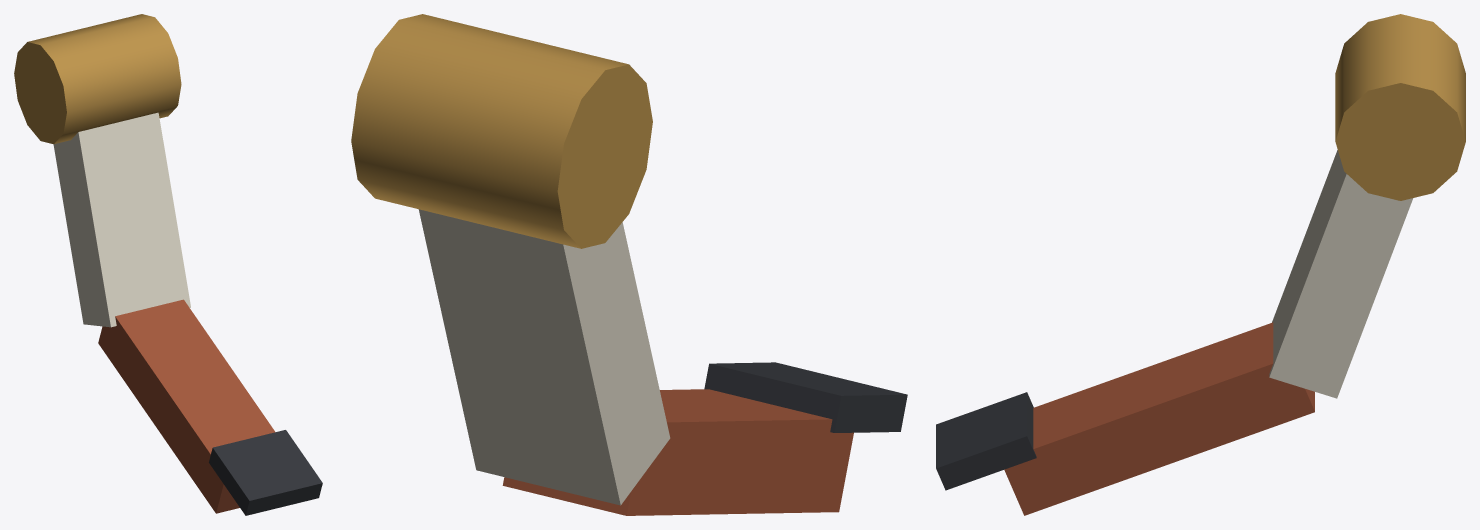
Rendered from rm2_claw_jaw_b.obj.
The picture shows the model from 3 angles, left to right: view 1: azimuth 30°, elevation 25°; view 2: azimuth 150°, elevation 25°; view 3: azimuth 270°, elevation 25°; orthographic projection. The views are drawn at different scales.
Parts seen in each view (by area): view 1: rm2_claw_jaw_b; view 2: rm2_claw_jaw_b; view 3: rm2_claw_jaw_b.
Part boxes in pixels (x1,y1,x2,y2): rm2_claw_jaw_b: [14, 14, 322, 515]; rm2_claw_jaw_b: [351, 14, 907, 515]; rm2_claw_jaw_b: [936, 14, 1465, 515].
Size of the model in its own units: 0.05 by 0.1512 by 0.1625.
